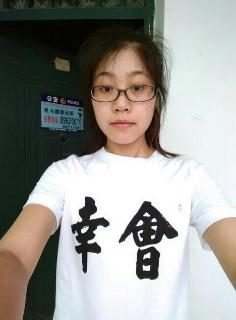short sleeve top: (23, 146, 236, 319)
